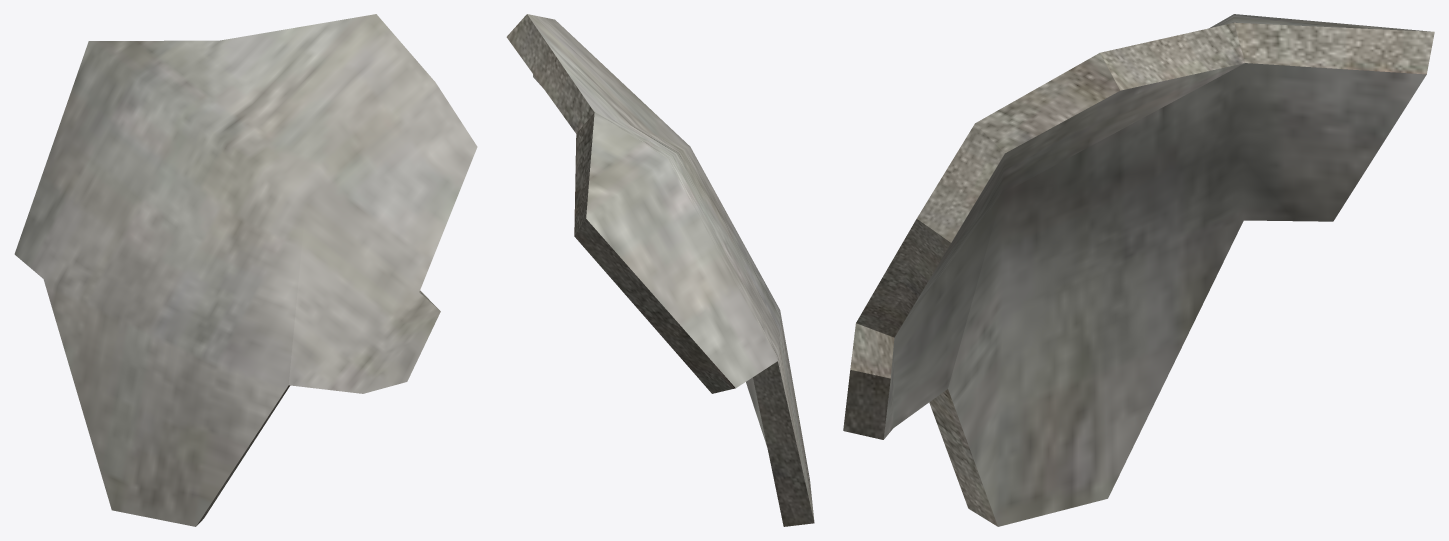
Rendered from egypt_prop_vase_br6_interior.glb.
3 views of the same model, side by side, from view 1: azimuth 30°, elevation 25°; view 2: azimuth 150°, elevation 25°; view 3: azimuth 270°, elevation 25° (orthographic). The views are drawn at different scales.
Size of the model in its own units: 13.8 by 17.04 by 14.69.
Materials: 1 (1 with a texture image).
